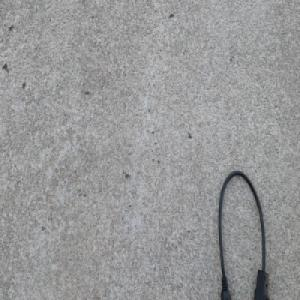Wire: (214, 167, 270, 300)
